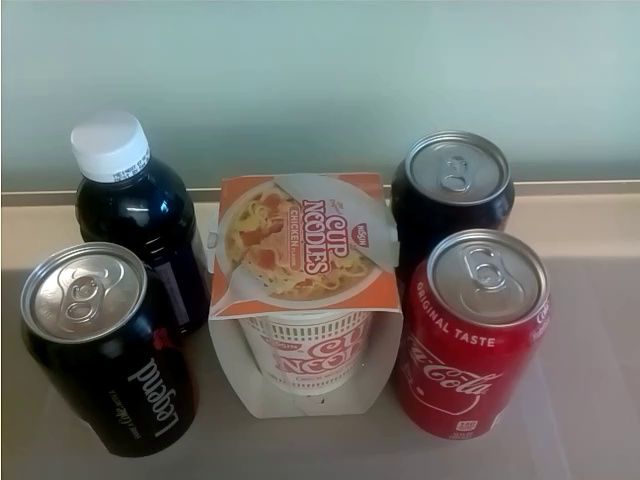cocacola: (404, 229, 550, 446)
cocacola-zero: (20, 240, 201, 460), (392, 130, 517, 236)
juice: (68, 109, 209, 342)
noodles: (198, 172, 405, 422)
